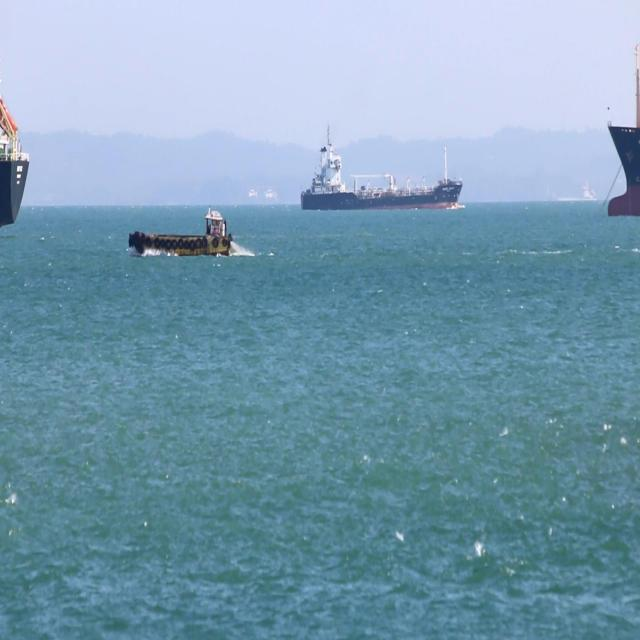ship2: (300, 125, 464, 212), (126, 206, 234, 257)
